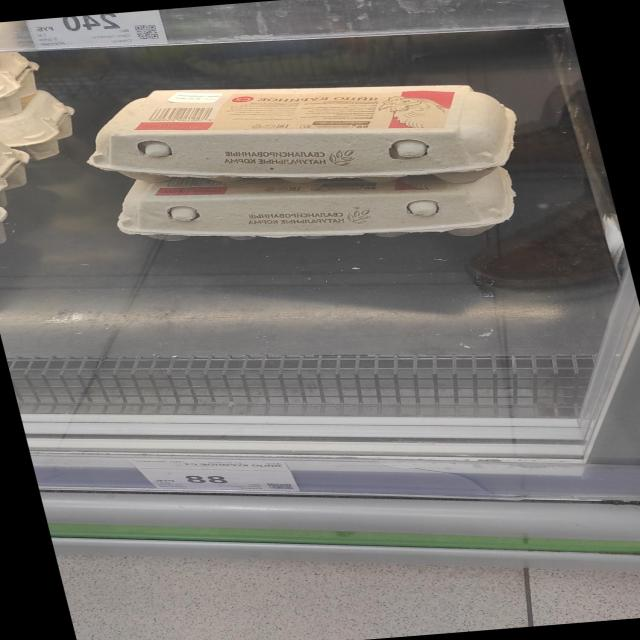organic waste: (52, 55, 561, 213), (0, 47, 49, 118), (0, 134, 42, 202)
